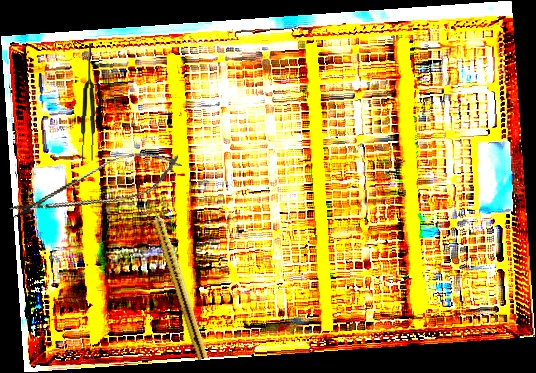Handpiece: (146, 198, 212, 361)
Micro Scissor: (2, 138, 191, 236)
Tissue Forceps: (79, 42, 99, 162)
